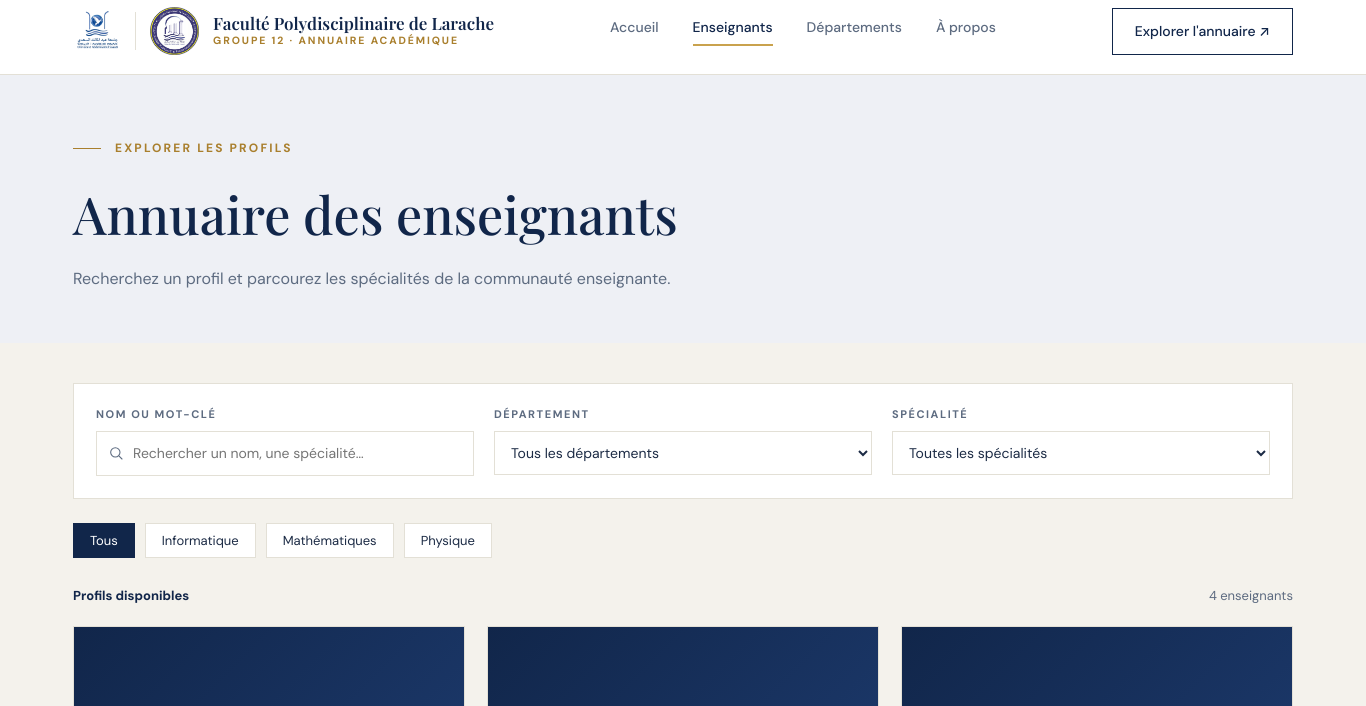
Scenario: Annuaire des enseignants › le filtre par département fonctionne
This screenshot has width=1366, height=706.
Select "Informatique" in the dropdown labelled "Département" at [683, 452], box [494, 430, 872, 474]
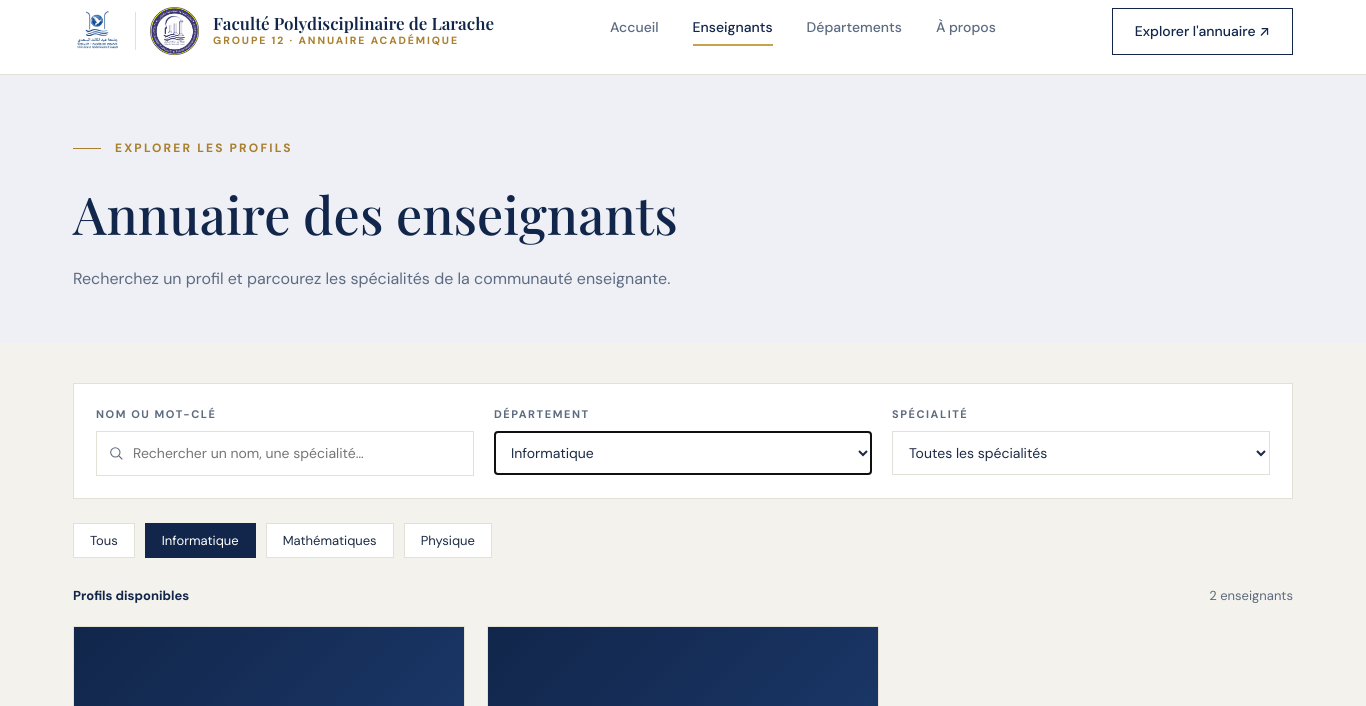
Select "Physique" in the dropdown labelled "Département" at [683, 452], box [494, 430, 872, 474]
(page scrolled)
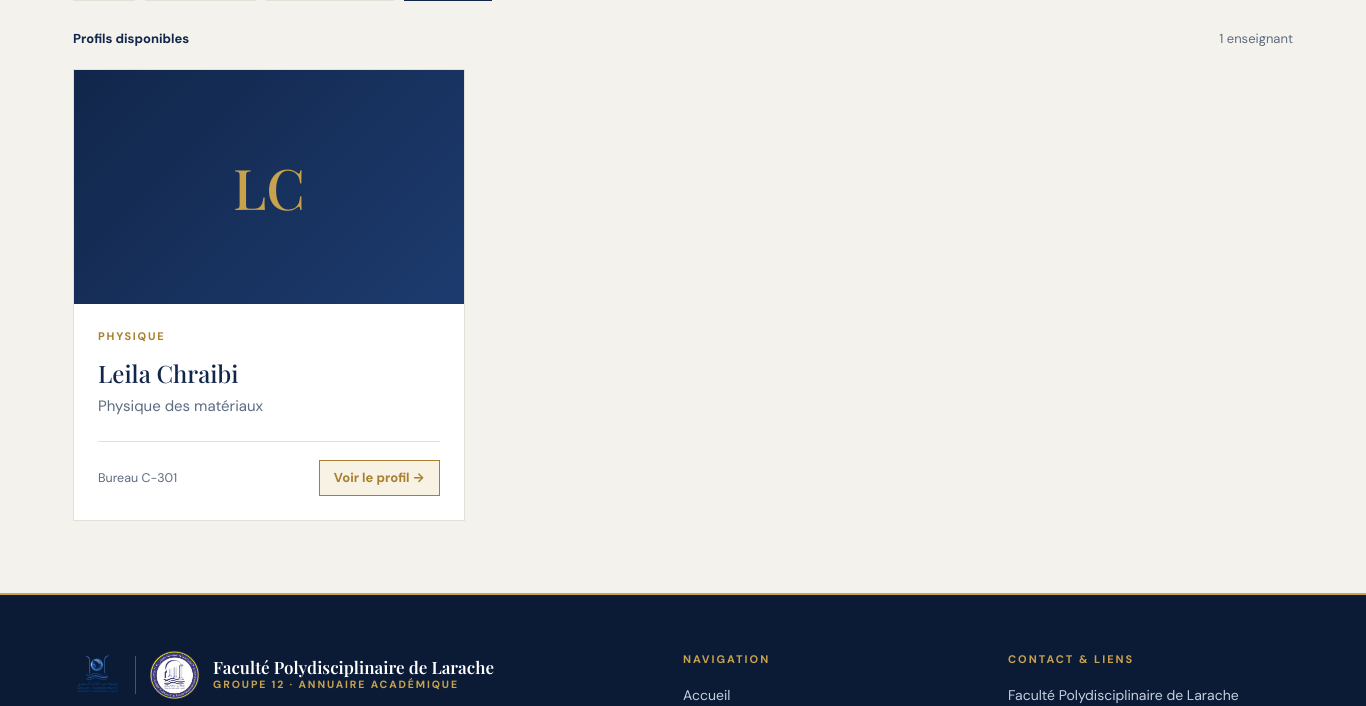
Now the heading "Leila Chraibi" is shown, box [98, 357, 238, 389]
